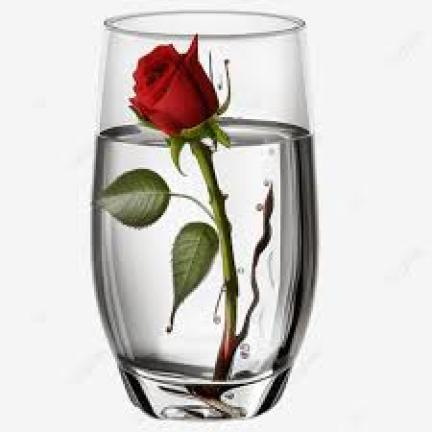container: (90, 4, 317, 420)
fluid: (92, 134, 318, 380)
fluid-surface: (103, 123, 312, 146)
